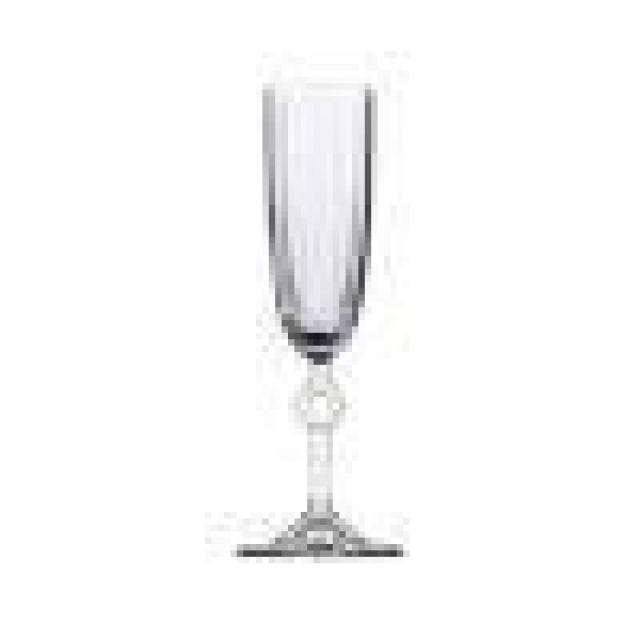glass: (230, 76, 404, 564)
